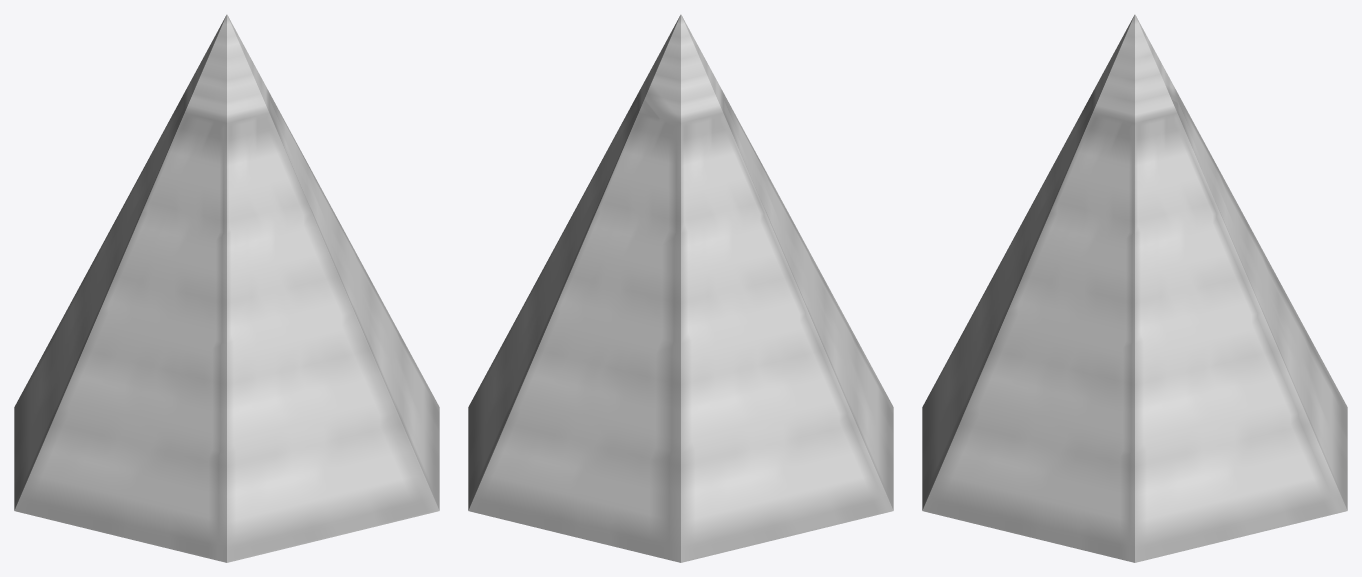
The model's file is spike.obj.
3 views of the same model, side by side, from view 1: azimuth 30°, elevation 25°; view 2: azimuth 150°, elevation 25°; view 3: azimuth 270°, elevation 25° (orthographic).
Parts seen in each view (by area): view 1: Cone01; view 2: Cone01; view 3: Cone01.
Part boxes in pixels (x1,y1,x2,y2): Cone01: (14,14,439,562); Cone01: (468,14,893,562); Cone01: (922,14,1347,562).
Size of the model in its own units: 3 by 3 by 2.6.
